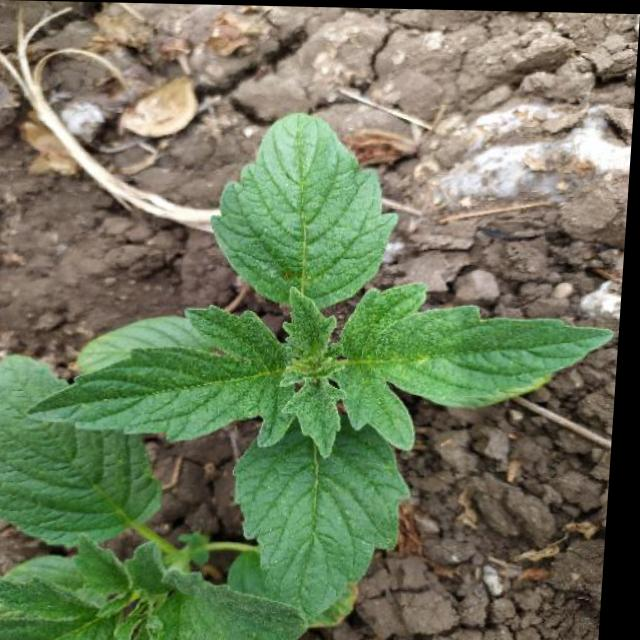crop: (38, 115, 626, 624), (0, 330, 334, 640)
